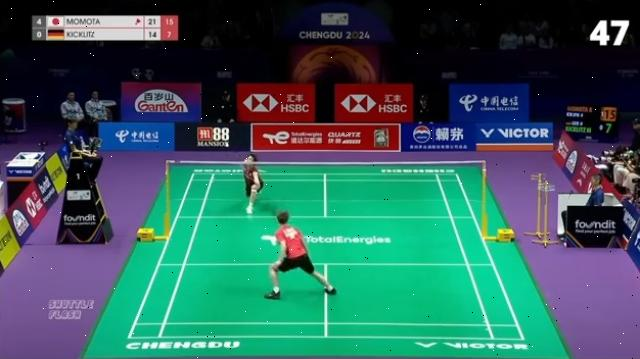Shuttlecock: (223, 142, 230, 150)
